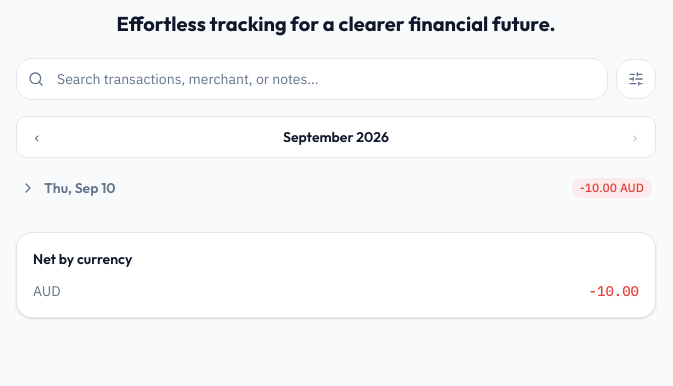
Test: 历史页 › 关键词筛选跨越月份返回当前月之外的匹配（搜索逃逸月范围）
Expected: the text "TokyoTrip" is not shown
Type "tokyotrip" into the search field. click: (312, 78)
box: [16,58,608,100]
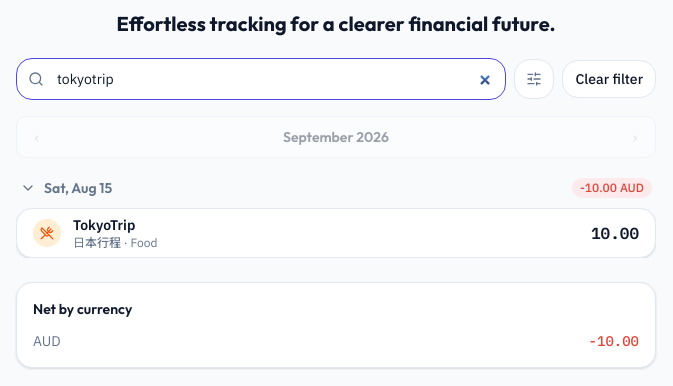
Result: the text "TokyoTrip" is shown at [73,214,135,234]
Result: the button "本地咖啡" is gone
